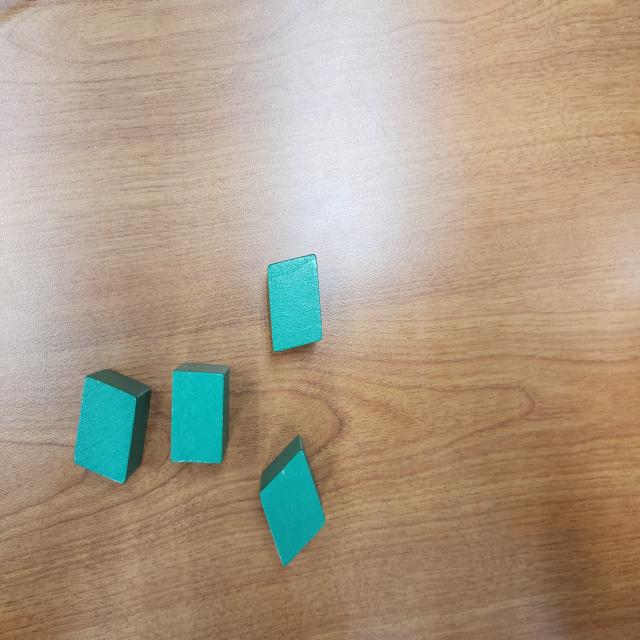green: (72, 370, 152, 486), (259, 434, 326, 566), (169, 363, 232, 465), (267, 254, 322, 354)
